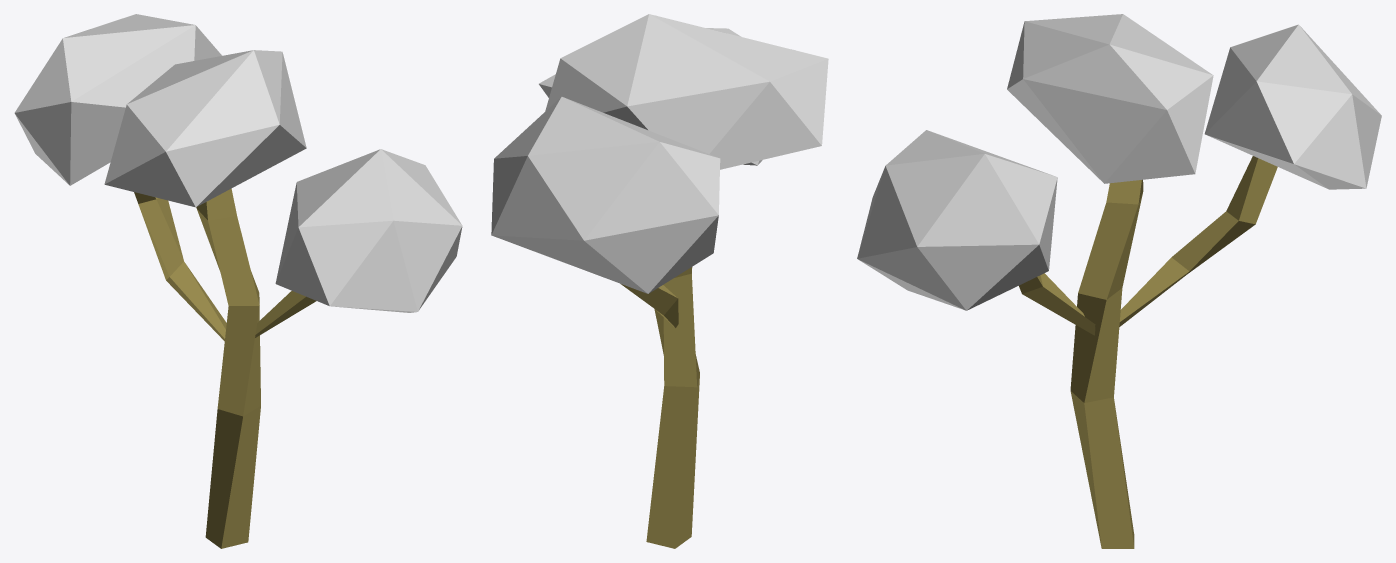
Rendered from Tree_Winter_9.fbx.
3 renders of one model, left to right at view 1: azimuth 30°, elevation 25°; view 2: azimuth 150°, elevation 25°; view 3: azimuth 270°, elevation 25°, orthographic. The views are drawn at different scales.
Visible parts, largest first — view 1: Leaves.001, Leaves.002, Leaves, Trunk, Trunk.002, Trunk.001; view 2: Leaves, Leaves.002, Trunk, Trunk.002; view 3: Leaves.001, Leaves.002, Leaves, Trunk, Trunk.002, Trunk.001.
Boxes of the visible parts, x1=… form: Leaves.001: x1=275, y1=149, x2=462, y2=312; Leaves.002: x1=104, y1=50, x2=306, y2=207; Leaves: x1=14, y1=14, x2=221, y2=185; Trunk: x1=196, y1=188, x2=260, y2=548; Trunk.002: x1=134, y1=192, x2=226, y2=340; Trunk.001: x1=255, y1=291, x2=316, y2=337; Leaves: x1=491, y1=96, x2=720, y2=293; Leaves.002: x1=545, y1=14, x2=828, y2=169; Trunk: x1=646, y1=267, x2=699, y2=548; Trunk.002: x1=621, y1=284, x2=678, y2=327; Leaves.001: x1=857, y1=130, x2=1057, y2=310; Leaves.002: x1=1007, y1=14, x2=1213, y2=183; Leaves: x1=1204, y1=24, x2=1381, y2=189; Trunk: x1=1070, y1=179, x2=1143, y2=548; Trunk.002: x1=1119, y1=156, x2=1277, y2=326; Trunk.001: x1=1019, y1=273, x2=1095, y2=335.
Bounding box in the file's own units: 203 × 321 × 300.
